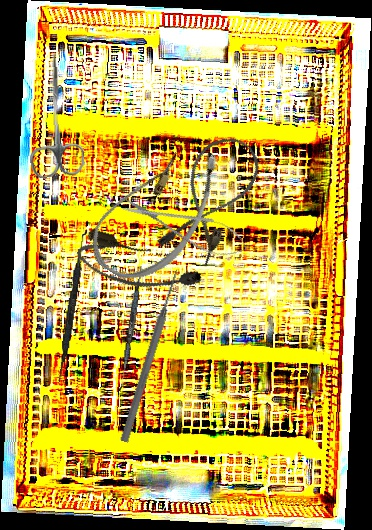Cannula: (79, 121, 235, 299), (152, 125, 269, 271), (72, 225, 206, 308)
Iris Scissors: (24, 51, 86, 179)
Micro Scissor: (117, 187, 254, 266)
Pusher: (118, 268, 183, 444)
Spatula Surgical: (56, 228, 88, 383), (118, 265, 144, 392)
